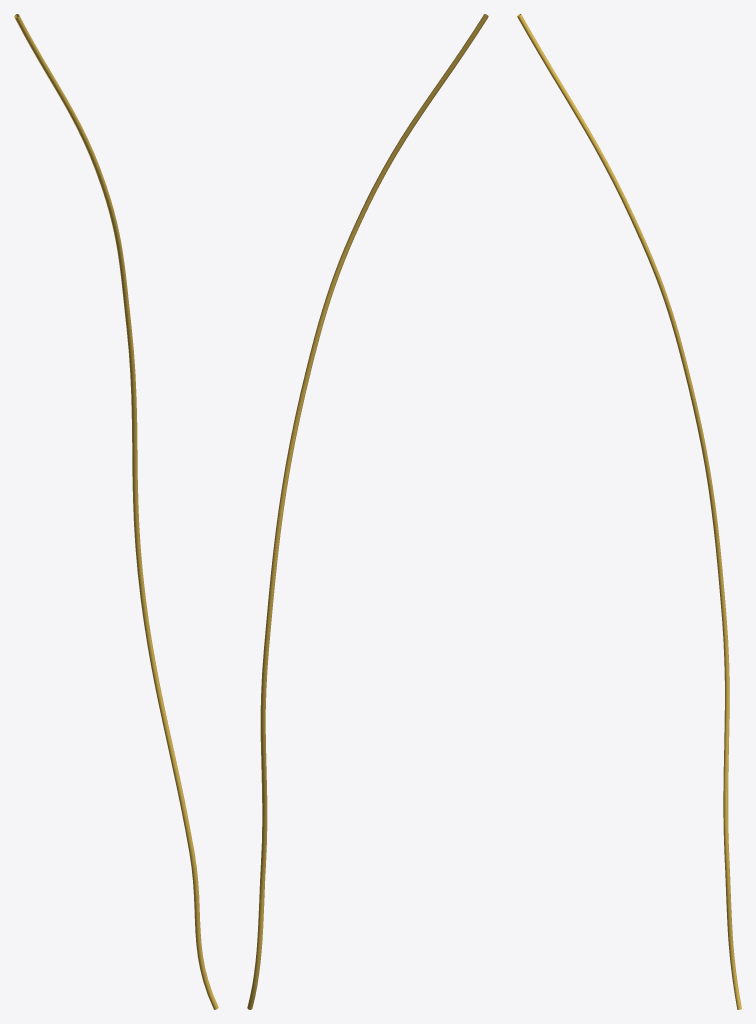
File: Musculocutaneous_nerve_left.glb
3 renders of one model, left to right at view 1: azimuth 30°, elevation 25°; view 2: azimuth 150°, elevation 25°; view 3: azimuth 330°, elevation 25°, orthographic. The views are drawn at different scales.
Parts seen in each view (by area): view 1: Musculocutaneous_nerve.l_BezierCurve.498; view 2: Musculocutaneous_nerve.l_BezierCurve.498; view 3: Musculocutaneous_nerve.l_BezierCurve.498.
Part boxes in pixels (<box>): Musculocutaneous_nerve.l_BezierCurve.498: <box>14,14,218,1009</box>; Musculocutaneous_nerve.l_BezierCurve.498: <box>247,14,488,1009</box>; Musculocutaneous_nerve.l_BezierCurve.498: <box>517,14,741,1009</box>.
Size of the model in its own units: 0.0486 by 0.219 by 0.0199.
